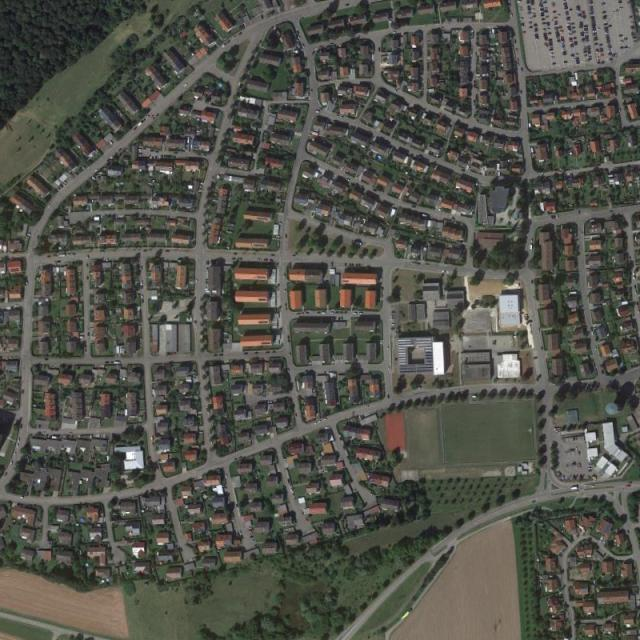vehicle: (569, 485, 579, 490)
